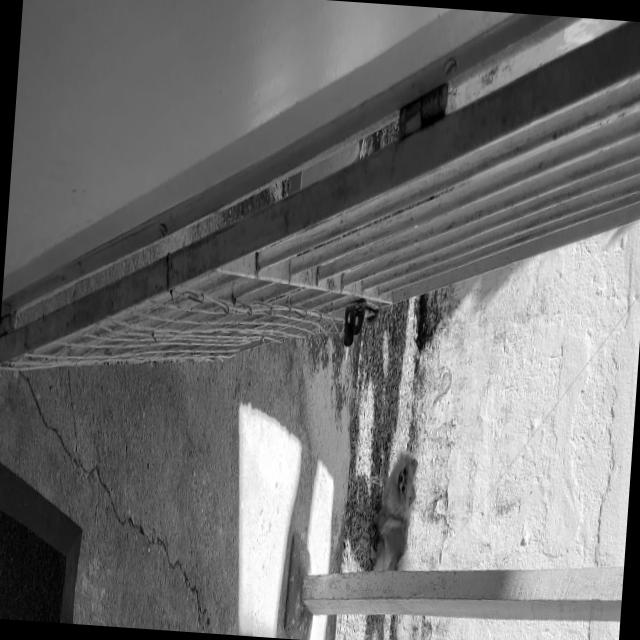squatting: (364, 436, 424, 584)
